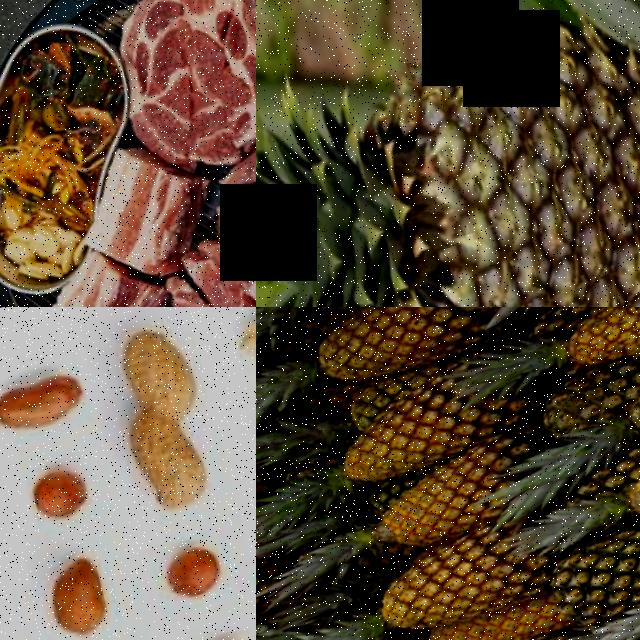peanuts: (94, 308, 229, 523), (0, 363, 90, 446), (34, 552, 106, 640), (19, 459, 94, 534), (153, 545, 224, 612)
pineapple: (291, 0, 640, 307), (278, 307, 489, 404), (295, 404, 462, 506), (352, 464, 485, 575), (348, 544, 501, 640), (514, 307, 640, 396), (573, 441, 640, 552), (394, 598, 569, 640), (585, 358, 640, 465), (257, 307, 470, 326)
pork belly: (101, 0, 256, 183), (77, 143, 215, 295), (192, 137, 256, 307), (16, 253, 170, 307)
